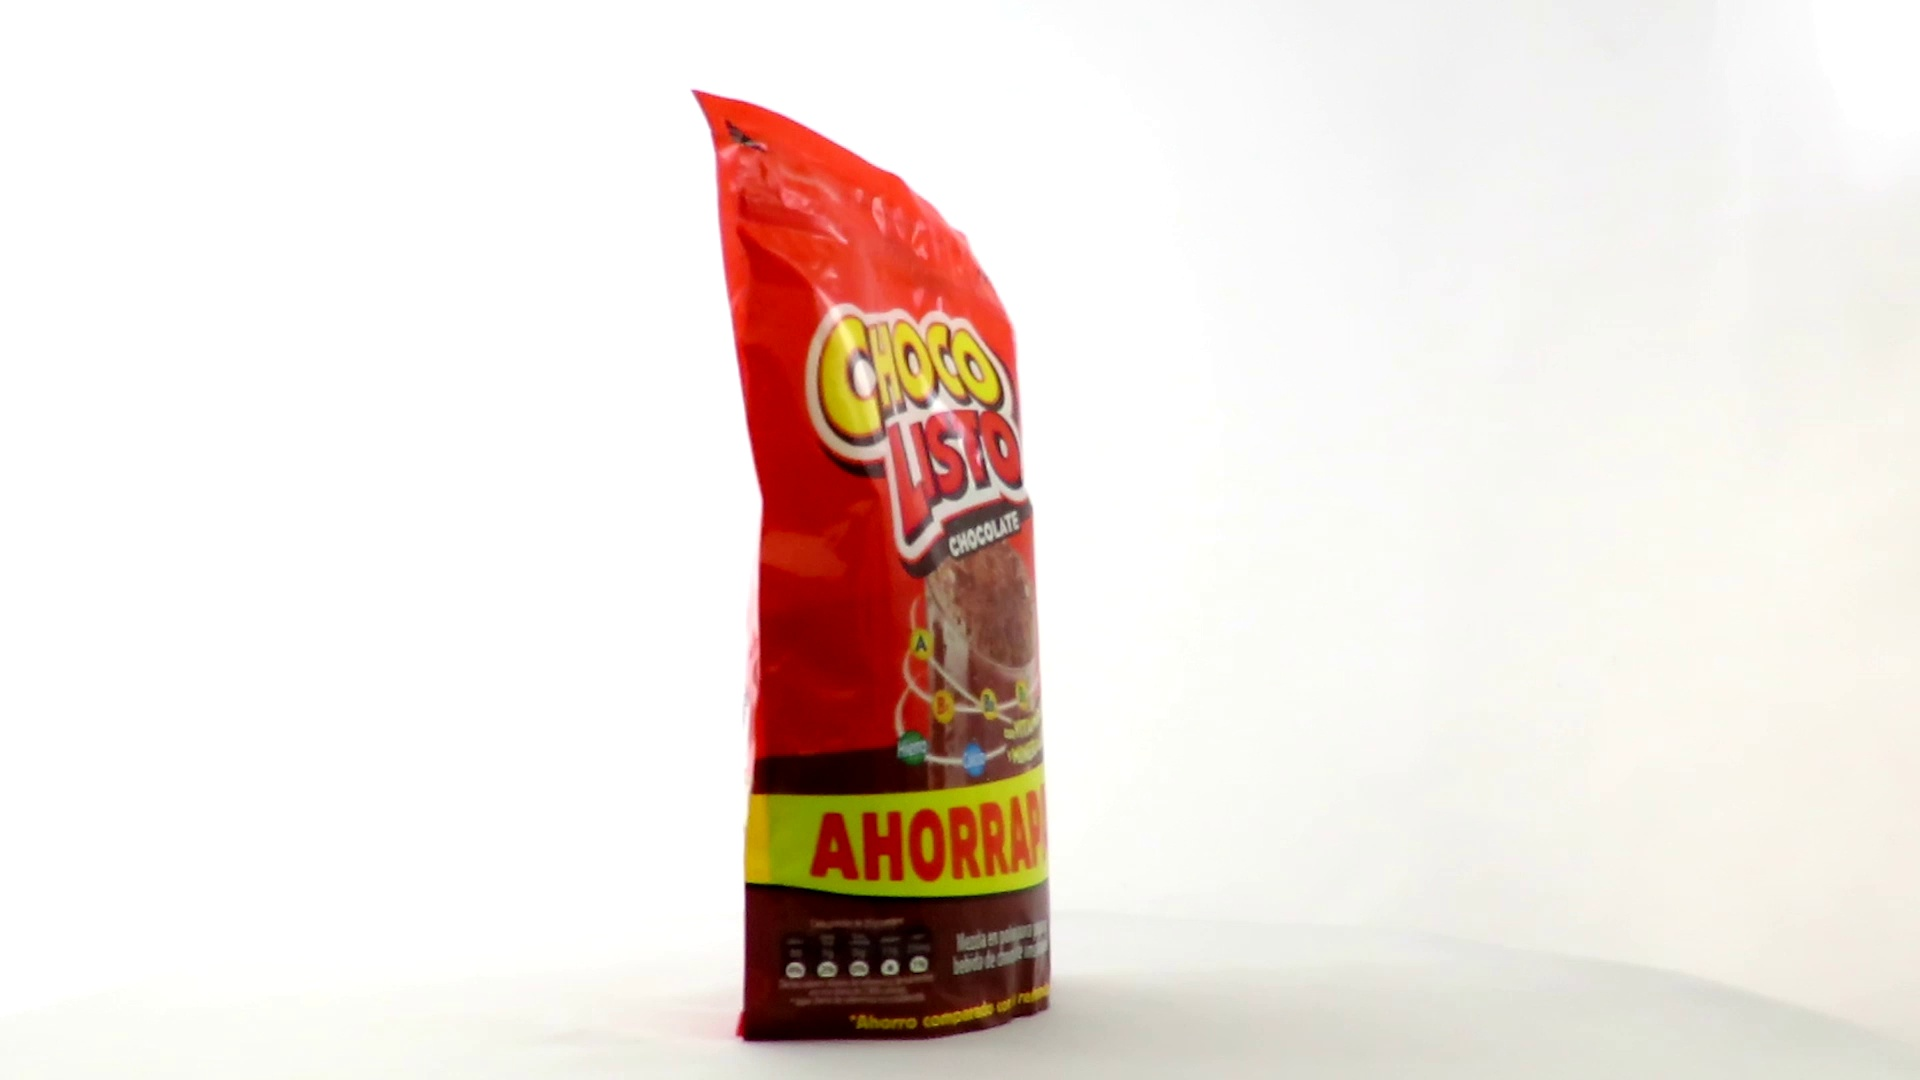COL0170103DYP36000: (686, 84, 1058, 1048)
